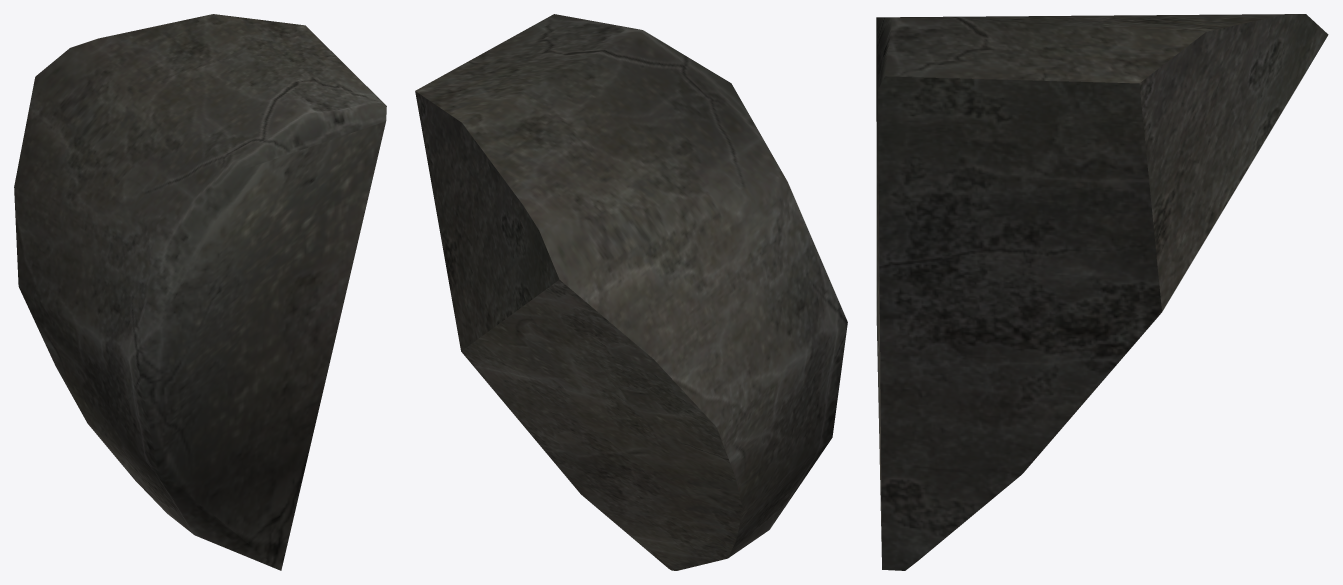
The model's file is TI_Pillar_Piece_04.fbx.
The picture shows the model from 3 angles, left to right: view 1: azimuth 30°, elevation 25°; view 2: azimuth 150°, elevation 25°; view 3: azimuth 270°, elevation 25°; orthographic projection. The views are drawn at different scales.
Visible parts, largest first — view 1: TI_Pillar_Piece_04; view 2: TI_Pillar_Piece_04; view 3: TI_Pillar_Piece_04.
Boxes of the visible parts, x1,y1,x2,y2 form: TI_Pillar_Piece_04: (14, 14, 386, 570); TI_Pillar_Piece_04: (415, 14, 847, 570); TI_Pillar_Piece_04: (876, 14, 1328, 570).
Size of the model in its own units: 0.6415 by 1.02 by 0.7253.
